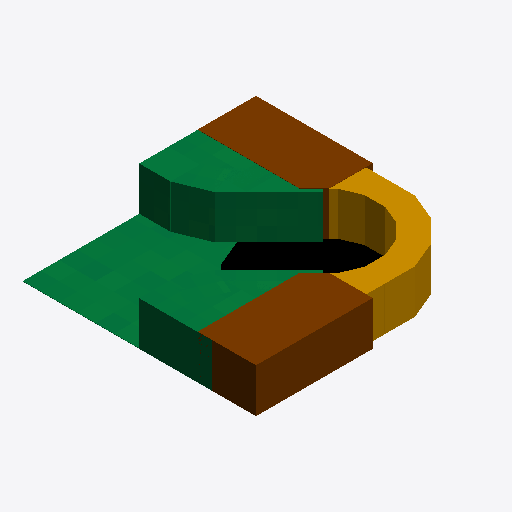
Isometric view (azimuth 45°, elevation 35.3°) of a Minecraft model made of 28 cuboids, textured from the same repository.
Parts seen in each view (by area): element 27, element 20, element 25, element 12, element 8, element 11, element 21, element 5, element 7, element 6, element 4, element 16 (+12 smaller).
Boxes of the visible parts, box(x1,y1,x2,y2) form: element 27: box(198, 273, 357, 415); element 20: box(23, 214, 236, 364); element 25: box(198, 96, 357, 188); element 12: box(215, 168, 322, 241); element 8: box(168, 279, 270, 390); element 11: box(171, 161, 230, 241); element 21: box(353, 255, 414, 340); element 5: box(139, 147, 198, 231); element 7: box(139, 280, 191, 364); element 6: box(169, 130, 274, 191); element 4: box(222, 242, 356, 272); element 16: box(346, 168, 414, 255).
Size of the model in its own units: 16 by 3.02 by 16.